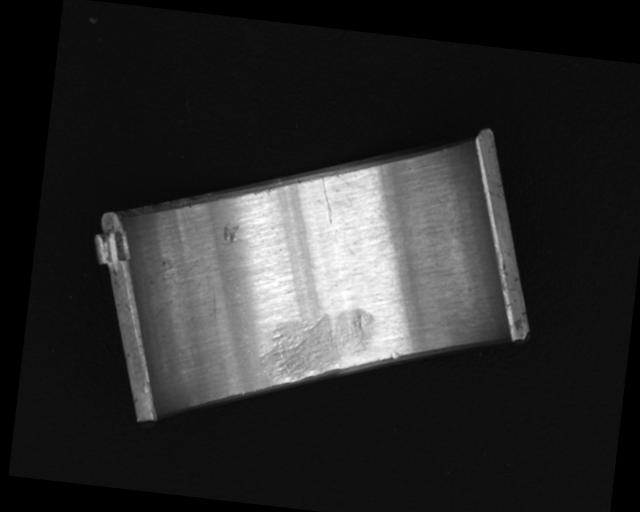bruise: (220, 221, 240, 244), (389, 350, 400, 360)
nick: (314, 174, 339, 225)
scratch: (256, 297, 379, 392)
